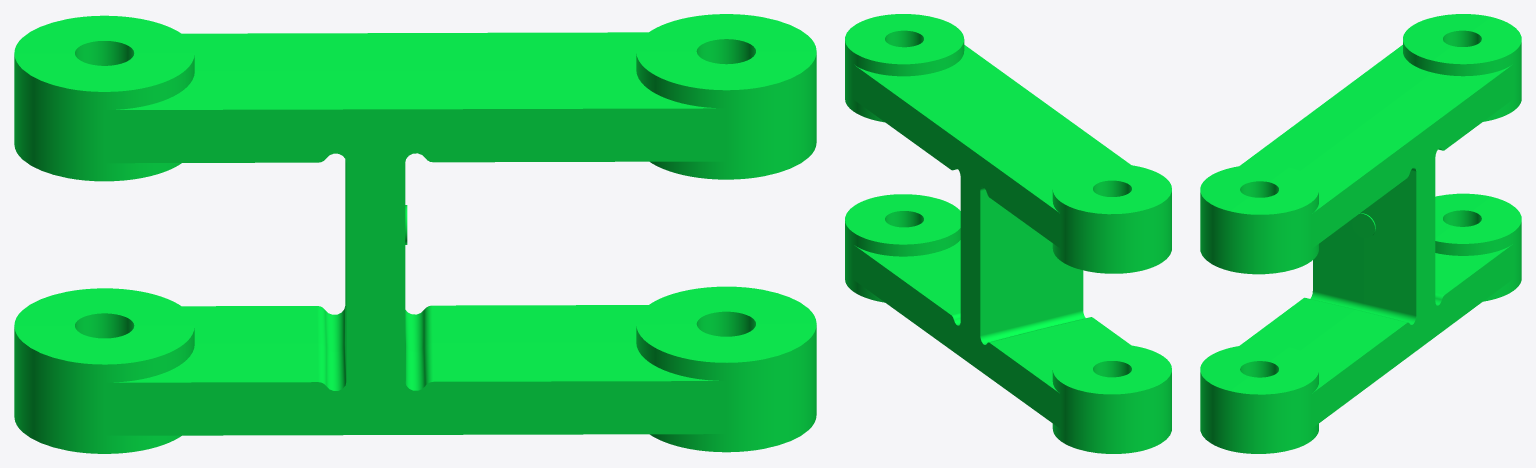
File: gripper_left2.dae
3 renders of one model, left to right at view 1: azimuth 30°, elevation 25°; view 2: azimuth 150°, elevation 25°; view 3: azimuth 270°, elevation 25°, orthographic. The views are drawn at different scales.
Visible parts, largest first — view 1: Brep; view 2: Brep; view 3: Brep.
Part boxes in pixels (bbox=[...]): Brep: bbox=[14, 14, 816, 453]; Brep: bbox=[845, 14, 1171, 453]; Brep: bbox=[1200, 14, 1521, 453].
Size of the model in its own units: 35.92 by 24.29 by 20.
